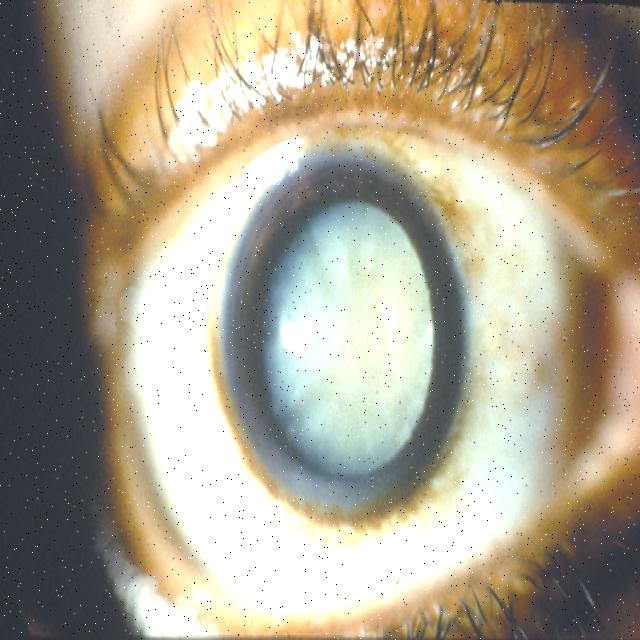Cataract: (97, 58, 606, 615)
